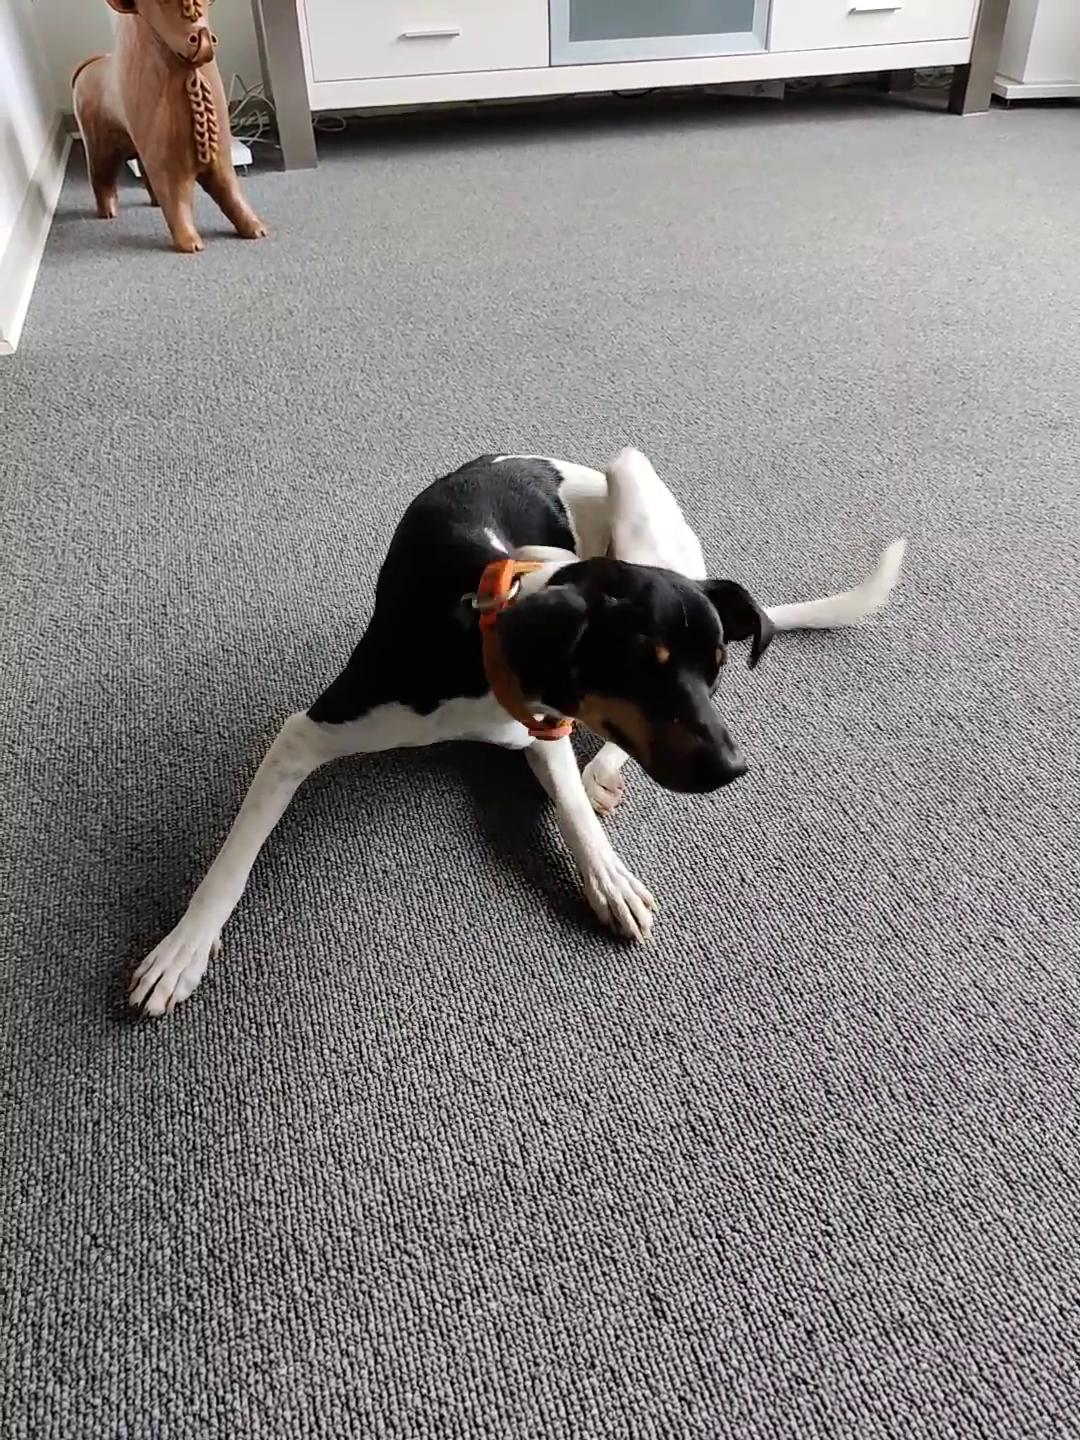Dog: (111, 440, 910, 1025)
